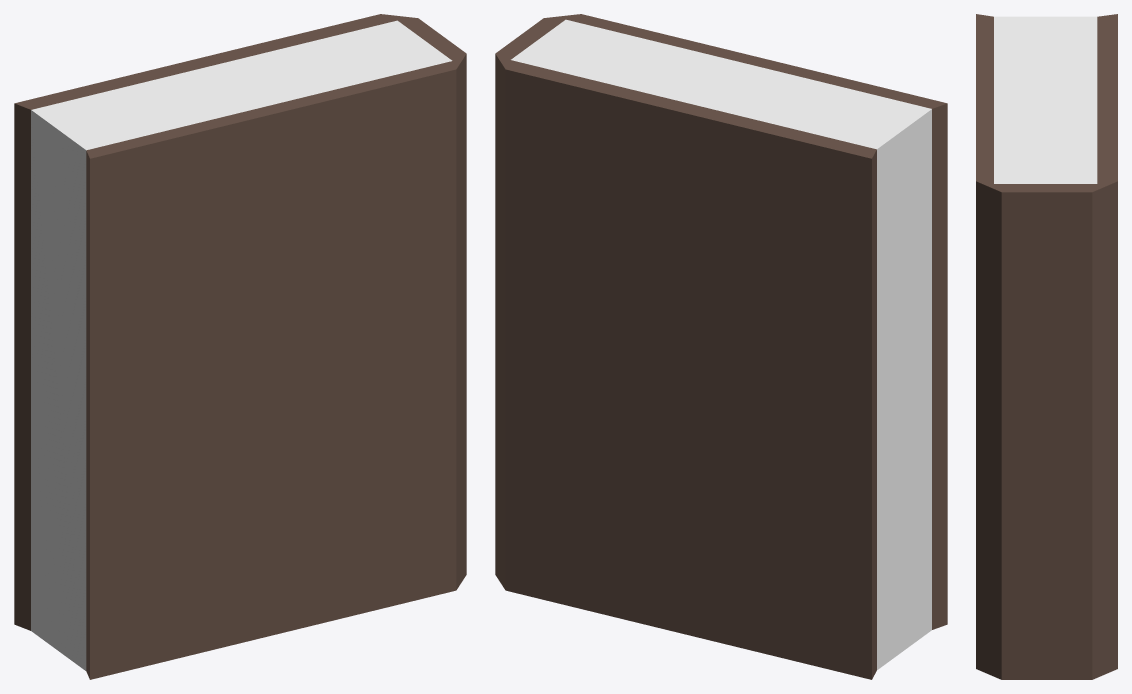
File: ksiazka-luz.fbx
3 renders of one model, left to right at view 1: azimuth 30°, elevation 25°; view 2: azimuth 150°, elevation 25°; view 3: azimuth 270°, elevation 25°, orthographic. The views are drawn at different scales.
Visible parts, largest first — view 1: Cube; view 2: Cube; view 3: Cube.
Boxes of the visible parts, <box> form: Cube: <box>14,14,466,679</box>; Cube: <box>495,14,947,679</box>; Cube: <box>976,14,1117,679</box>.
Size of the model in its own units: 281 by 359 by 94.47.
